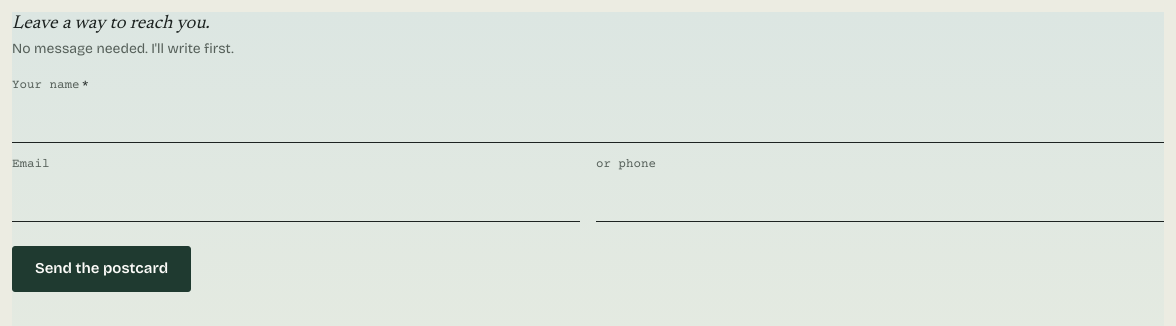
the lead form › says so on the card when the send fails, and never claims success
The width and height of the screenshot is (1176, 326).
Type "Jamie" into the field labelled "Your name*" at [588, 121], box [12, 99, 1164, 143]
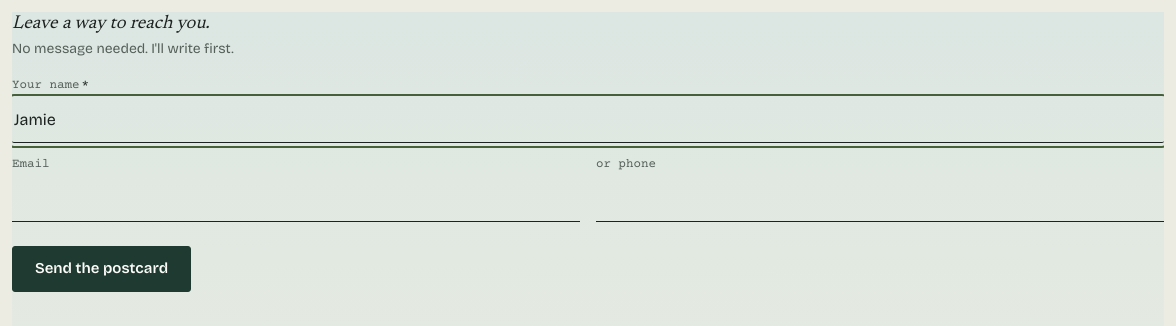
Type "jamie@example.com" into the field labelled "Email" at [296, 200], box [12, 178, 580, 222]
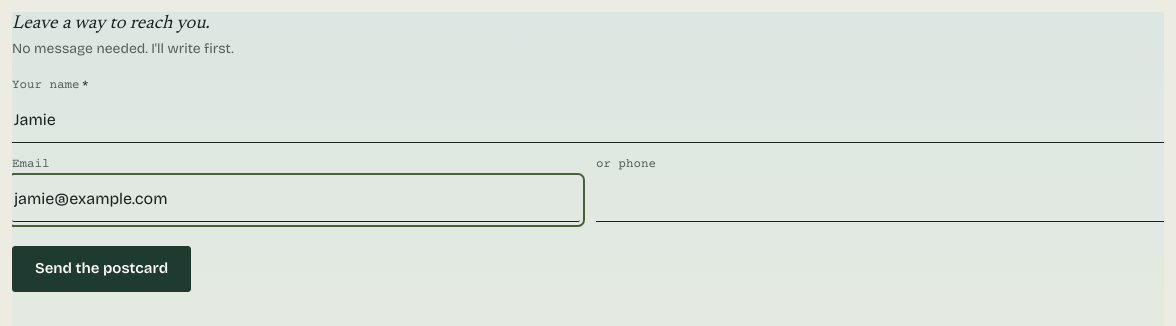
Click the button "Send the postcard" at [102, 269], box [12, 246, 191, 292]
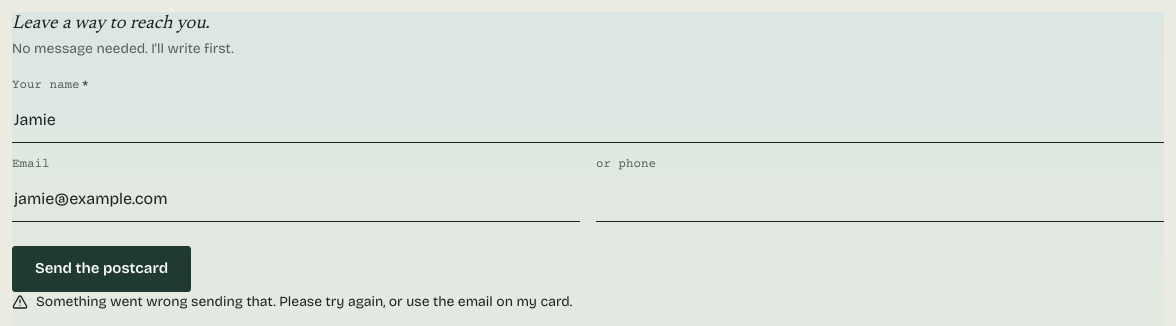
Check: the message shows "went wrong", box [36, 293, 572, 310]
